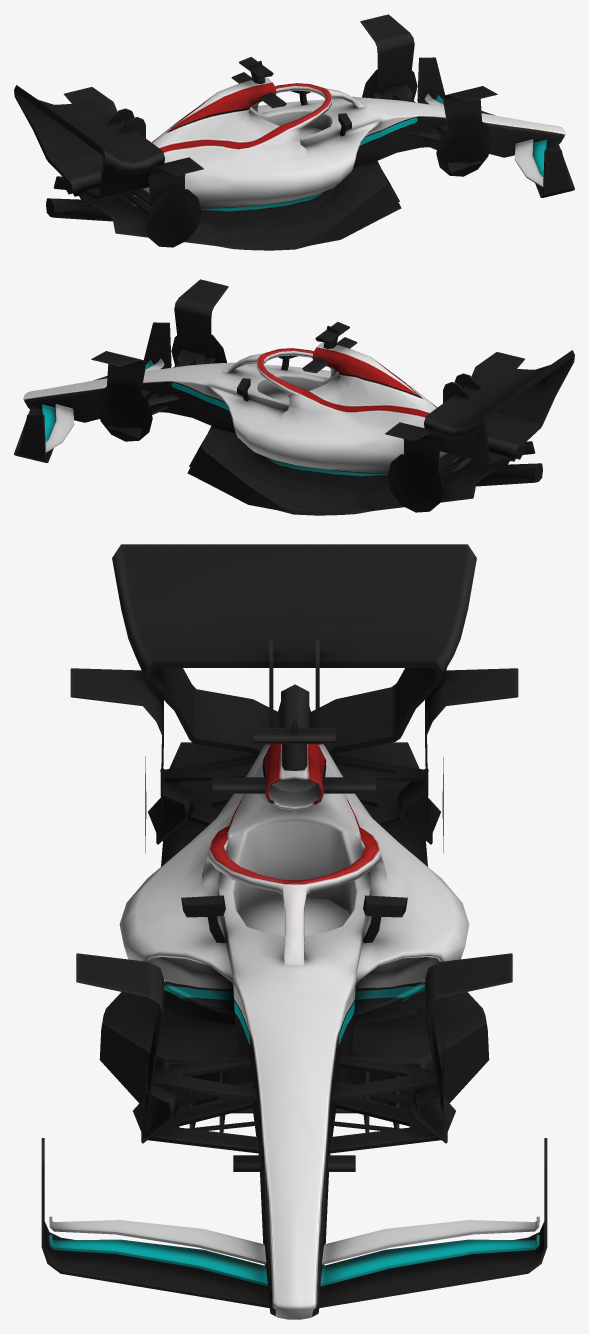
The model's file is f1_car_11.dae.
3 renders of one model, top to bottom at view 1: azimuth 30°, elevation 25°; view 2: azimuth 150°, elevation 25°; view 3: azimuth 270°, elevation 25°, orthographic. The views are drawn at different scales.
Parts seen in each view (by area): view 1: F1_Car; view 2: F1_Car; view 3: F1_Car.
Boxes of the visible parts, box(x1,y1,x2,y2) form: F1_Car: box(14, 14, 574, 250); F1_Car: box(14, 279, 574, 515); F1_Car: box(41, 544, 547, 1319).
Bounding box in the file's own units: 34.44 × 14.7 × 9.69.
Materials: 1 (1 with a texture image).
